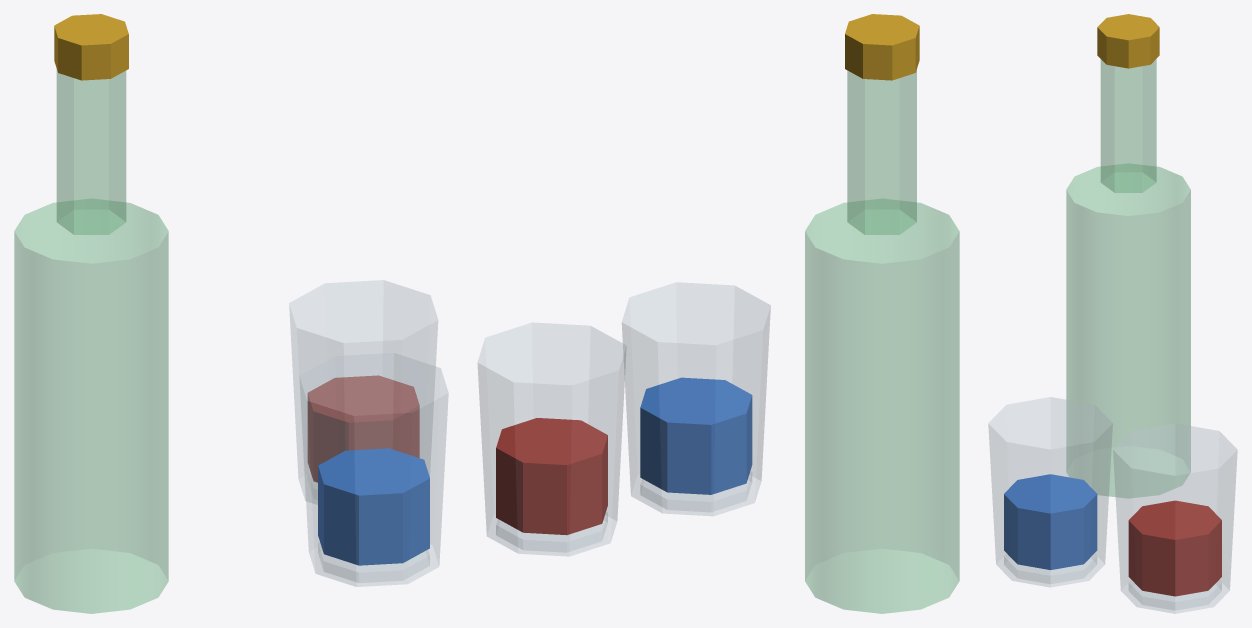
The model's file is tableware_bottle_and_glasses.glb.
3 renders of one model, left to right at view 1: azimuth 30°, elevation 25°; view 2: azimuth 150°, elevation 25°; view 3: azimuth 270°, elevation 25°, orthographic. The views are drawn at different scales.
Visible parts, largest first — view 1: tableware_bottle_and_glasses; view 2: tableware_bottle_and_glasses; view 3: tableware_bottle_and_glasses.
Part boxes in pixels (x1=…): tableware_bottle_and_glasses: x1=14, y1=14, x2=448, y2=613; tableware_bottle_and_glasses: x1=477, y1=14, x2=959, y2=613; tableware_bottle_and_glasses: x1=988, y1=14, x2=1237, y2=613.
Bounding box in the file's own units: 0.26 × 0.315 × 0.16.
